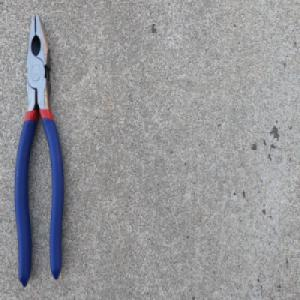Pliers: (13, 9, 65, 288)
